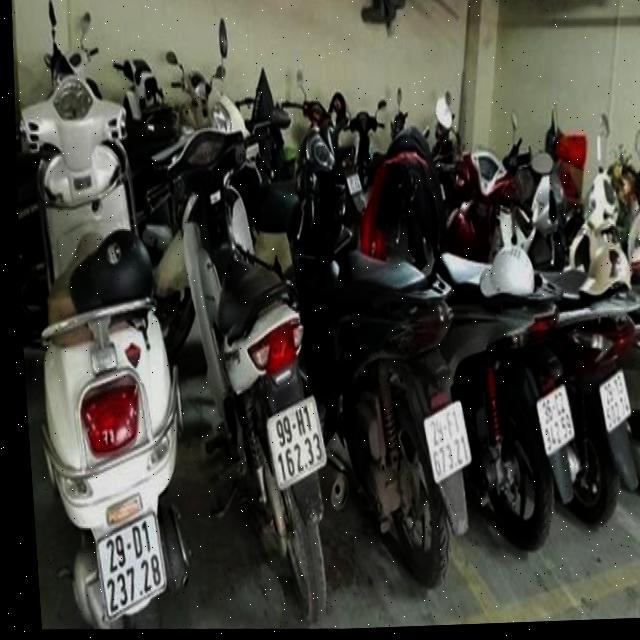motorcycle: (4, 58, 209, 634), (156, 91, 374, 629), (281, 85, 493, 607), (413, 87, 640, 531), (459, 258, 594, 569)
plate: (86, 500, 172, 628), (260, 384, 333, 495), (414, 392, 478, 489), (529, 379, 581, 460), (592, 362, 637, 437)
